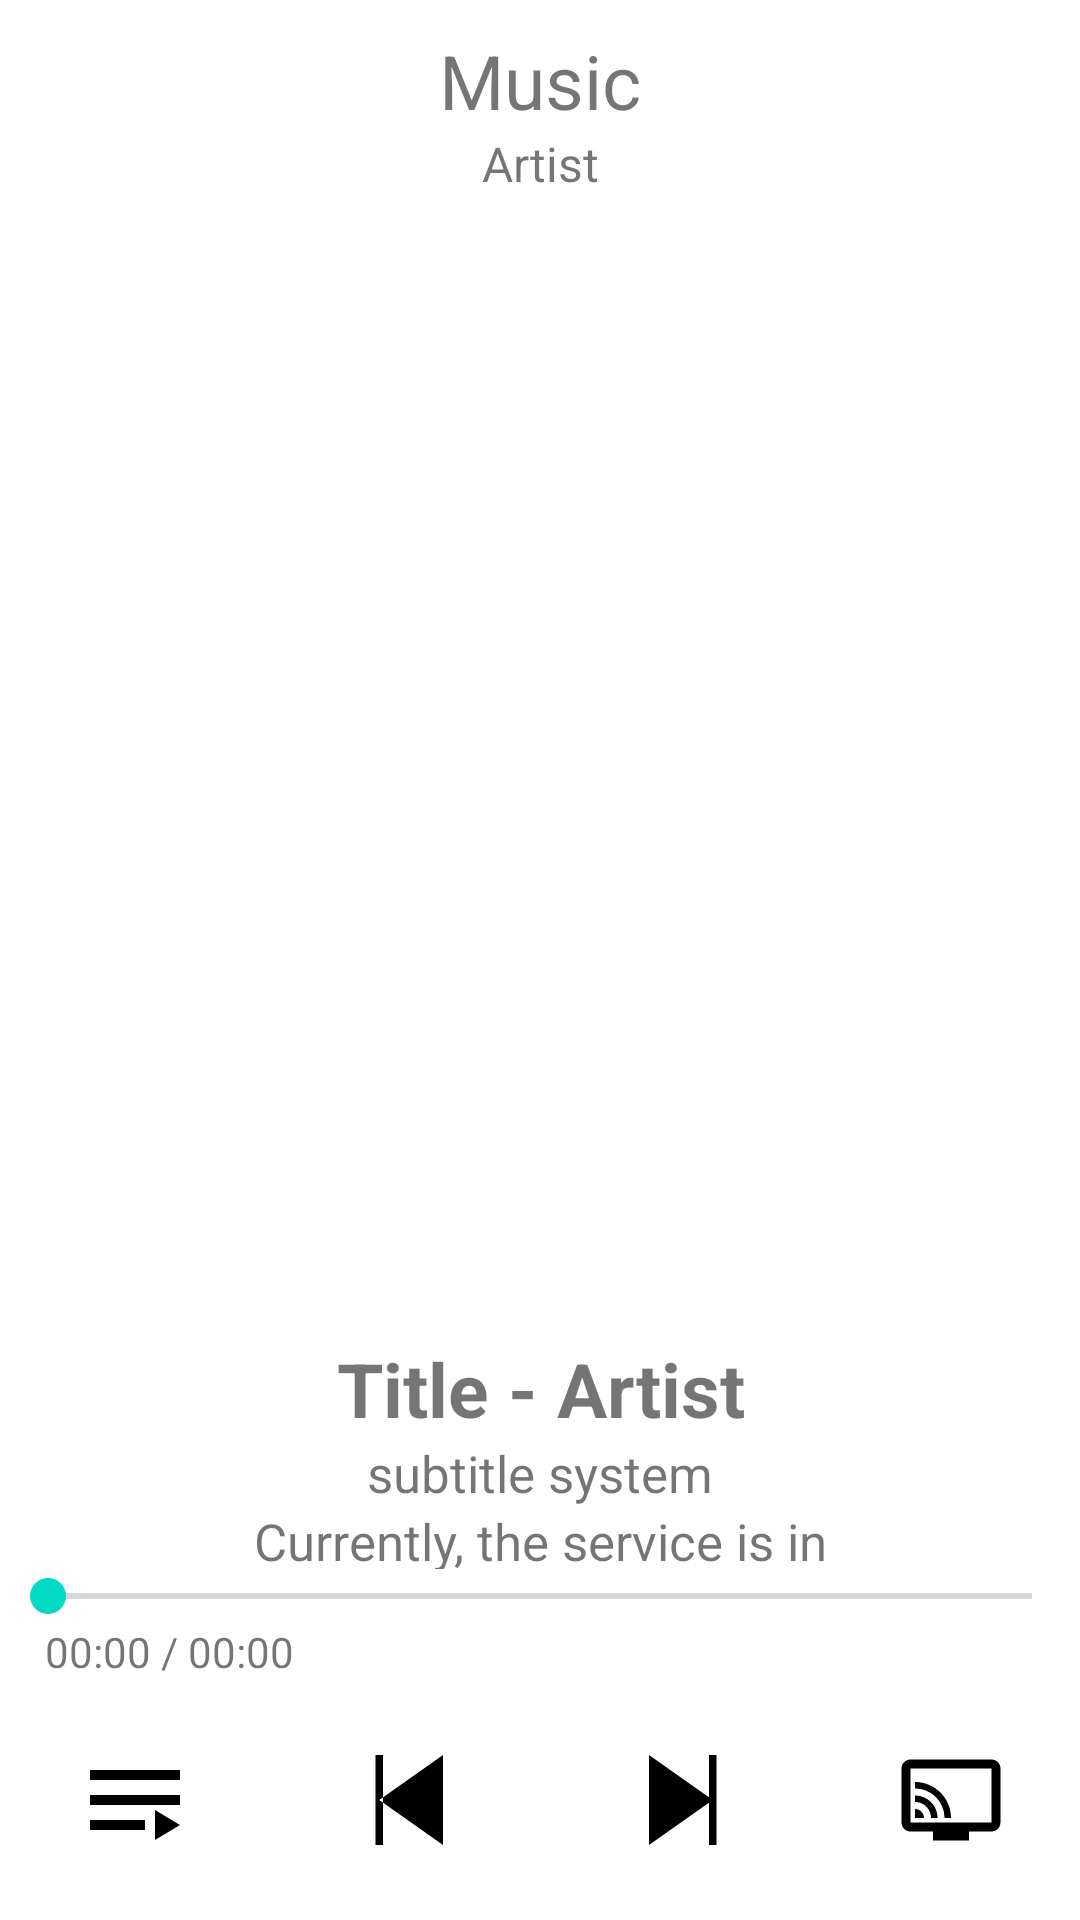

Icon click points for this 1080px×1920px phone screenshot, format (x,y):
connect: (951,1800)
nextplay: (683,1800)
playlist: (135,1805)
prevplay: (409,1800)
